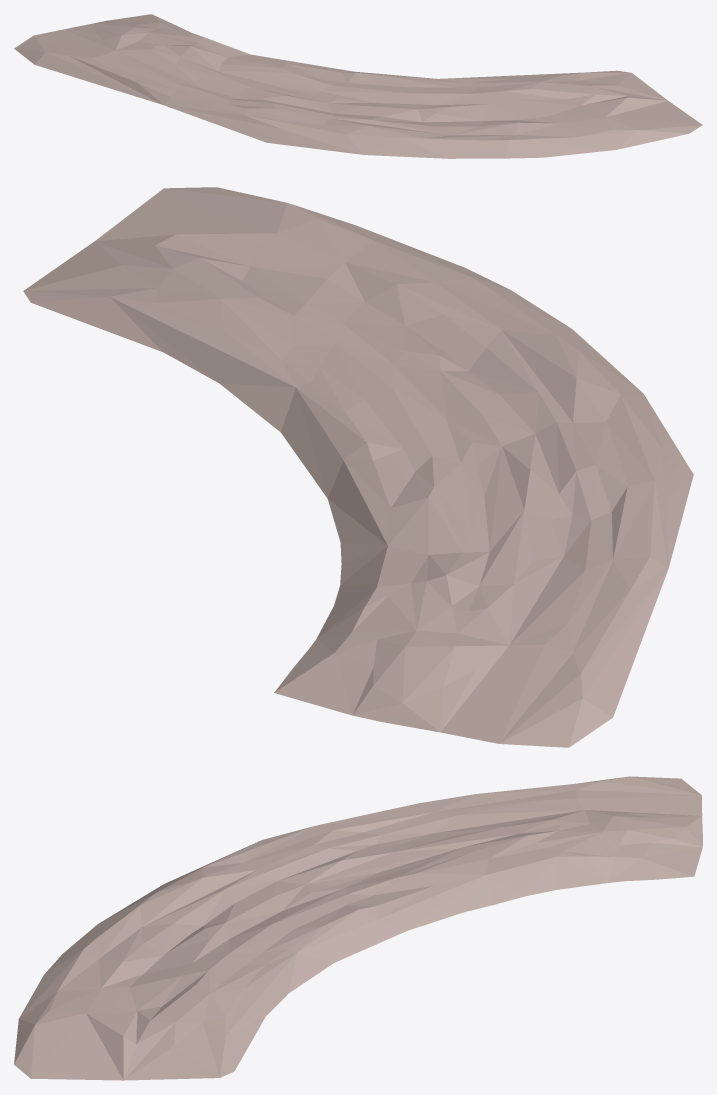
Rendered from road_005.fbx.
The picture shows the model from 3 angles, top to bottom: view 1: azimuth 30°, elevation 25°; view 2: azimuth 150°, elevation 25°; view 3: azimuth 270°, elevation 25°; orthographic projection. The views are drawn at different scales.
Parts seen in each view (by area): view 1: road_005; view 2: road_005; view 3: road_005.
Boxes of the visible parts, bbox=[...] form: road_005: bbox=[14, 14, 702, 158]; road_005: bbox=[23, 187, 693, 747]; road_005: bbox=[14, 776, 702, 1080].
Bounding box in the file's own units: 2217 × 2216 × 112.
